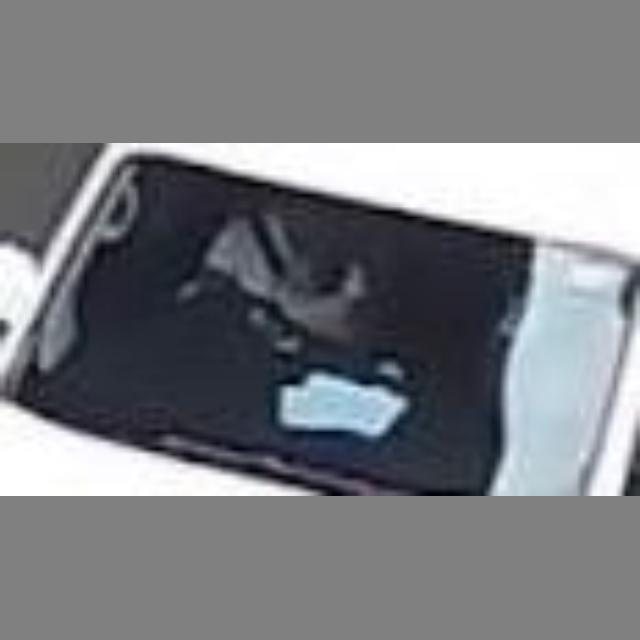pakai: (193, 204, 359, 364)
